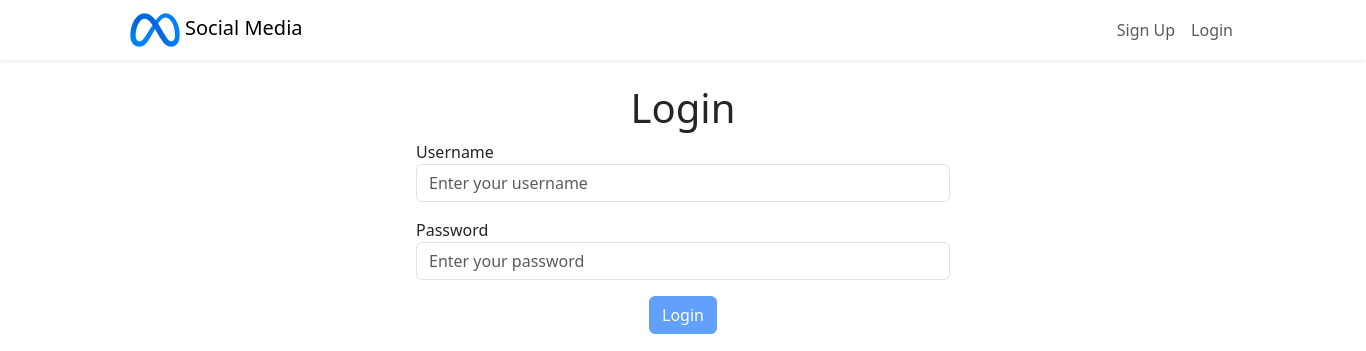
App › displays My Profile on TopBar after login success
The image size is (1366, 351).
In the field with placeholder "Enter your username": [683, 183] box [416,164,950,202], type "user1"
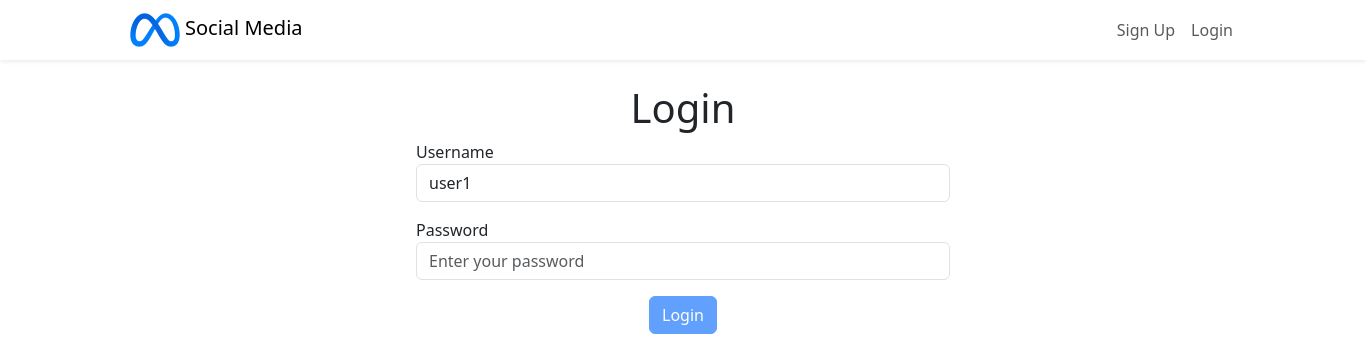
In the password field with placeholder "Enter your password": [683, 261] box [416,242,950,280], type "P4ssword"
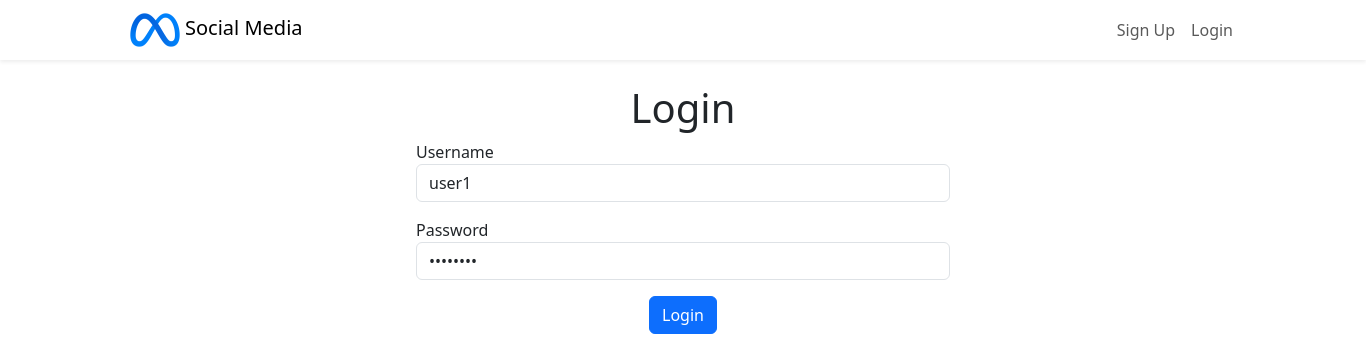
Click the button: [683, 315] box [649,296,717,334]
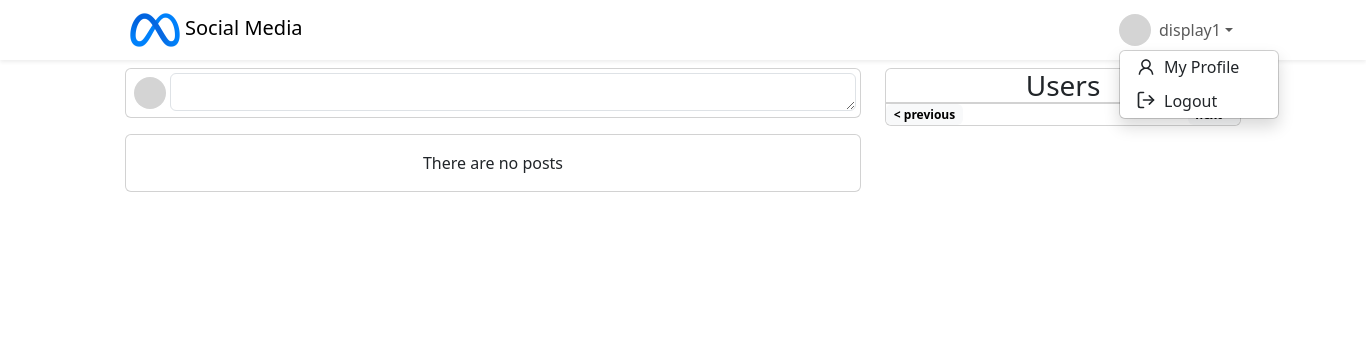
Expected: the link "My Profile" is shown, [1136,56,1239,78]
